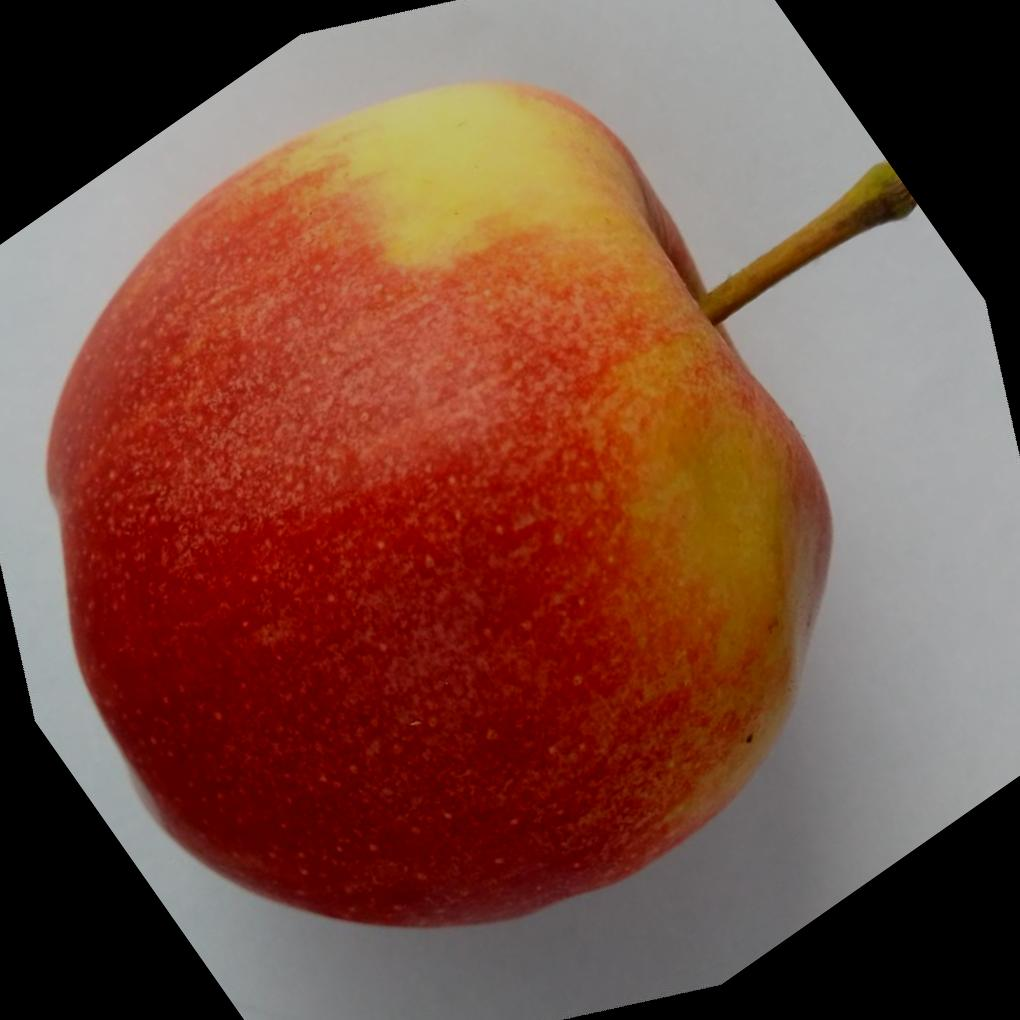FreshGuava: (43, 79, 837, 935)
